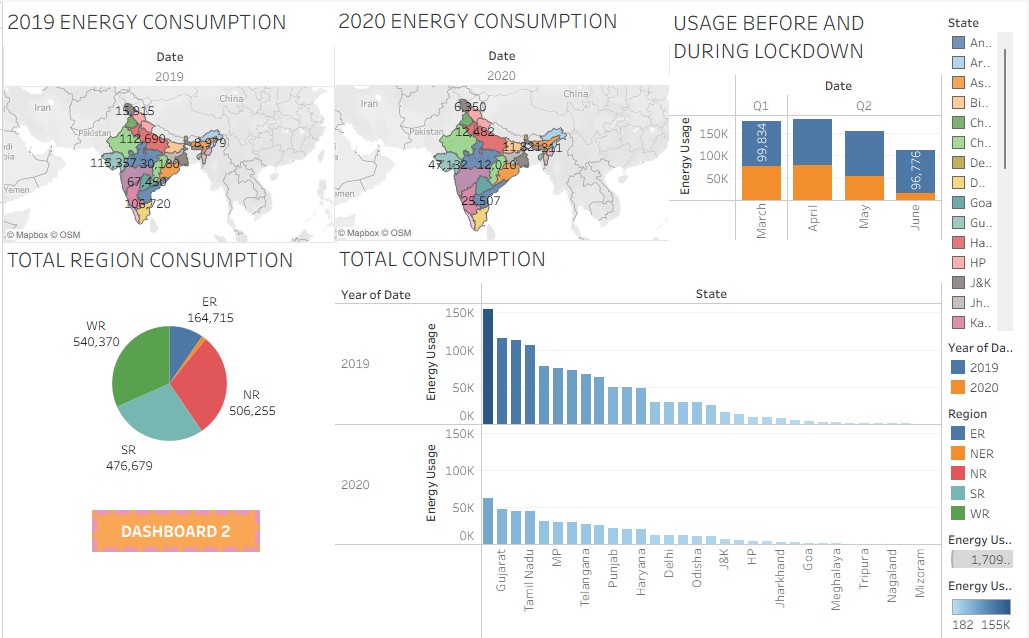

This screenshot's page, from the dashboard's own definition file:
{"tool":"tableau","page":{"name":"Dashboard 1","canvas":[1000,1000],"units":"permille","ordinal":0},"visuals":[{"type":"worksheet","title":"2020 ENERGY CONSUMPTION","mark":"Multipolygon","rows":["Latitude"],"cols":["Date","Longitude"],"box":[323,0,328,371.2]},{"type":"worksheet","title":"2019 ENERGY CONSUMPTION","mark":"Multipolygon","rows":["Latitude"],"cols":["Date","Longitude"],"box":[0,1.2,326,372.5]},{"type":"worksheet","title":"USAGE BEFORE AND DURING LOCKDOWN","mark":"Bar","rows":["Energy_Usage"],"cols":["Date","Date"],"box":[650,2.5,267,368.8]},{"type":"legend","title":"2019 ENERGY CONSUMPTION","param":"[federated.0mn6zz11gk0i8i1eq4oh012q122a].[none:State:nk]","box":[919,12.4,73.2,504.7]},{"type":"worksheet","title":"TOTAL CONSUMPTION","mark":"Bar","rows":["Date","Energy_Usage"],"cols":["State"],"box":[324,370,593,628.8]},{"type":"worksheet","title":"TOTAL REGION CONSUMPTION","mark":"Pie","box":[0,371.2,325,376.2]},{"type":"legend","title":"USAGE BEFORE AND DURING LOCKDOWN","param":"[federated.0mn6zz11gk0i8i1eq4oh012q122a].[yr:Date:ok]","box":[919,517.1,73.2,102.5]},{"type":"legend","title":"TOTAL REGION CONSUMPTION","param":"[federated.0mn6zz11gk0i8i1eq4oh012q122a].[none:Region:nk]","box":[919,619.6,73.2,195.7]},{"type":"dashboard-object","box":[87,788.8,164,65]},{"type":"legend","title":"TOTAL REGION CONSUMPTION","param":"[federated.0mn6zz11gk0i8i1eq4oh012q122a].[sum:Energy_Usage:qk]","box":[919,815.2,73.2,71.4]},{"type":"legend","title":"TOTAL CONSUMPTION","param":"[federated.0mn6zz11gk0i8i1eq4oh012q122a].[sum:Energy_Usage:qk]","box":[919,886.6,73.2,100.9]}]}

Visuals, with their boxes on the dashboard's canvas, which has no fixed pixel size, in thousandths of its width and height (x1, y1, x2, y2). These are canvas units, not pixel positions in the 1029x638 screenshot, which may show the page scaled, cropped or inside an application window:
"2020 ENERGY CONSUMPTION" worksheet (Multipolygon marks): locate(323, 0, 651, 371)
"2019 ENERGY CONSUMPTION" worksheet (Multipolygon marks): locate(0, 1, 326, 374)
"USAGE BEFORE AND DURING LOCKDOWN" worksheet (Bar marks): locate(650, 2, 917, 371)
"2019 ENERGY CONSUMPTION" legend: locate(919, 12, 992, 517)
"TOTAL CONSUMPTION" worksheet (Bar marks): locate(324, 370, 917, 999)
"TOTAL REGION CONSUMPTION" worksheet (Pie marks): locate(0, 371, 325, 747)
"USAGE BEFORE AND DURING LOCKDOWN" legend: locate(919, 517, 992, 620)
"TOTAL REGION CONSUMPTION" legend: locate(919, 620, 992, 815)
dashboard-object: locate(87, 789, 251, 854)
"TOTAL REGION CONSUMPTION" legend: locate(919, 815, 992, 887)
"TOTAL CONSUMPTION" legend: locate(919, 887, 992, 988)
